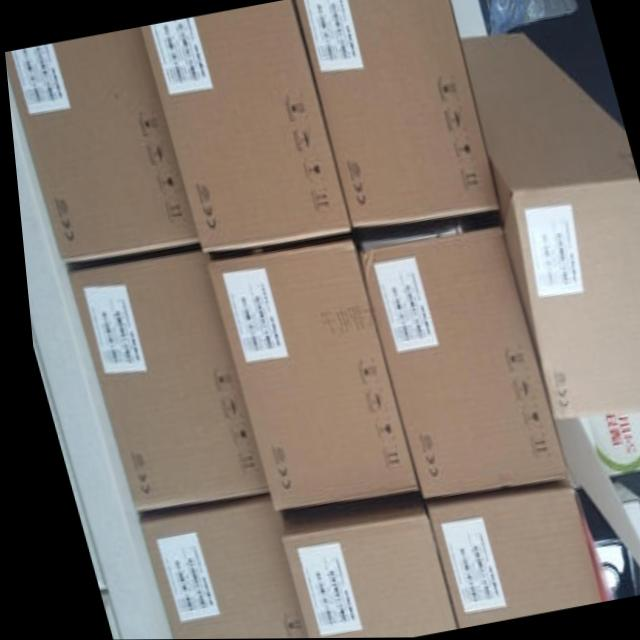box: (459, 33, 640, 420), (201, 239, 409, 513), (354, 224, 559, 499), (139, 0, 348, 253), (61, 251, 258, 512), (4, 27, 195, 269), (294, 0, 494, 230), (271, 491, 444, 639), (416, 489, 590, 629), (128, 494, 296, 639)
